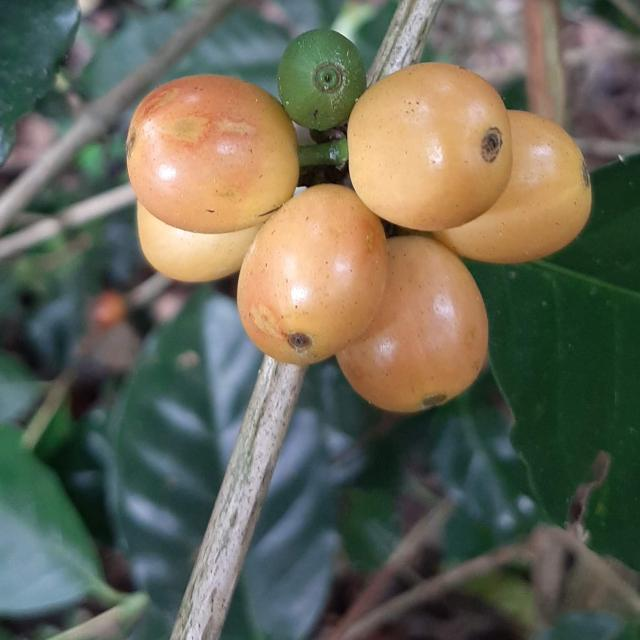green: (278, 28, 366, 130)
red: (348, 62, 513, 231), (126, 74, 299, 233), (237, 184, 388, 366), (337, 236, 489, 413), (434, 110, 593, 264), (137, 201, 261, 282)
